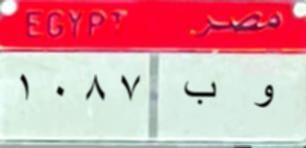0: (53, 80, 67, 100)
1: (16, 70, 35, 105)
7: (119, 72, 144, 104)
8: (82, 72, 110, 105)
baa: (182, 78, 220, 111)
waw: (247, 80, 277, 114)
